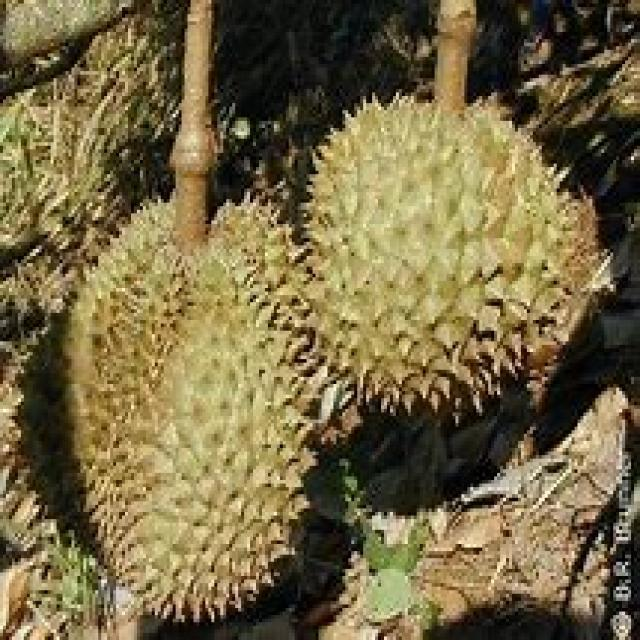mature: (69, 203, 315, 620), (309, 99, 601, 423)
